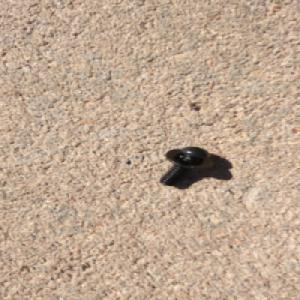BoltWasher: (157, 145, 216, 186)
